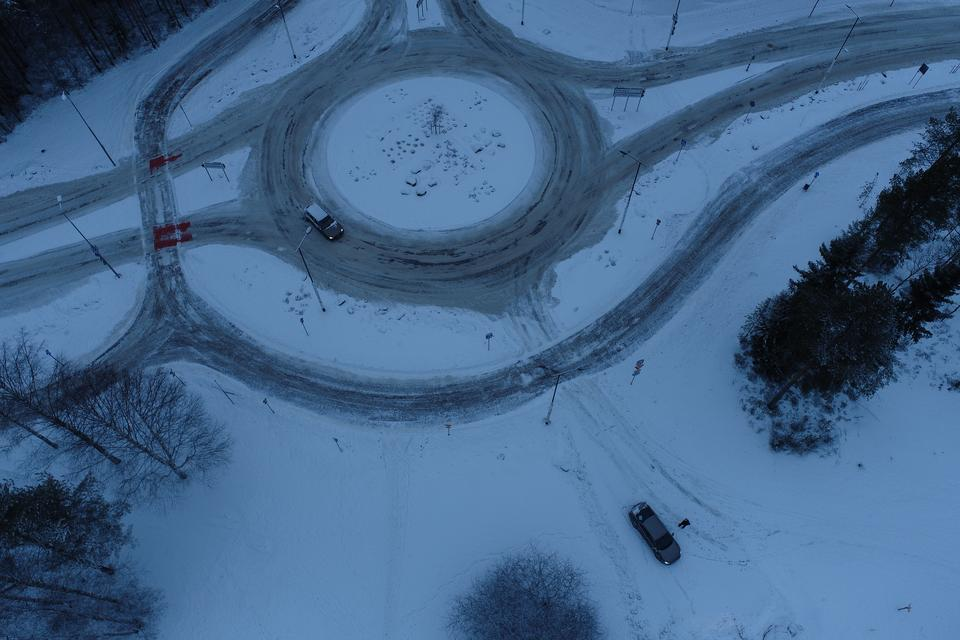intersection: (108, 115, 205, 279)
roundabout: (230, 3, 721, 443)
